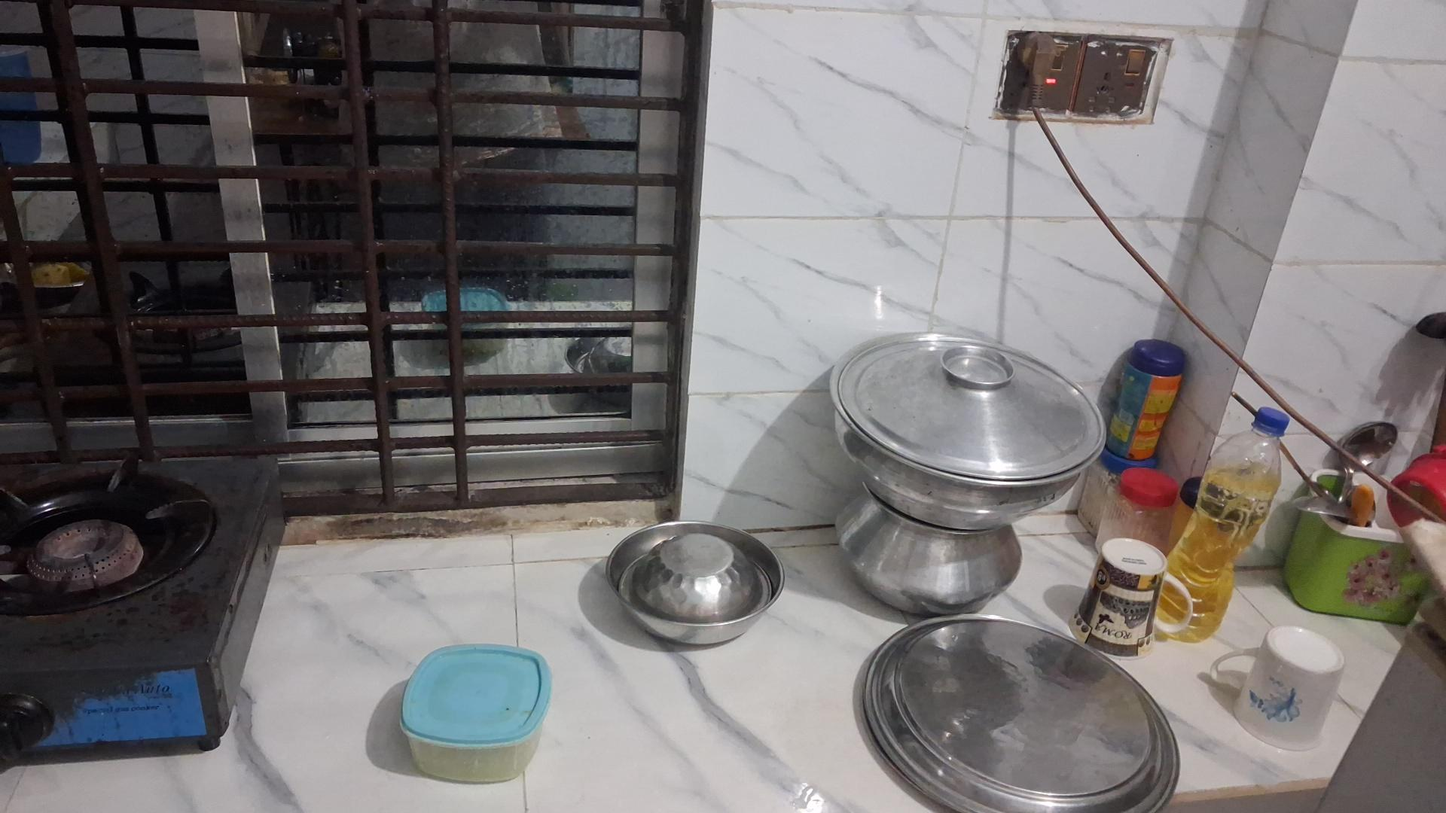Bottle: (1154, 405, 1289, 644)
Bowl: (605, 520, 784, 648)
Cup: (1223, 624, 1345, 752), (1069, 537, 1181, 656)
Jar: (398, 643, 553, 784), (1116, 338, 1187, 463)
Plate: (858, 605, 1181, 813)
Pot: (822, 322, 1104, 510), (834, 497, 1023, 601)
